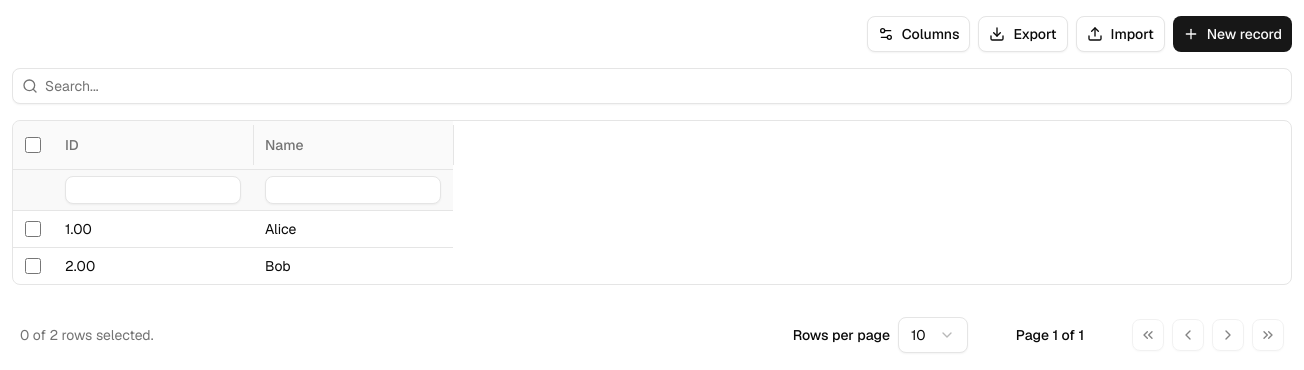
Test: TsTable › supports negation and text anchors in fulltext search
The image size is (1304, 370).
Type "!^a" into the field with placeholder "Search...".
click(652, 86); type("!^a")  # box [12,68,1292,104]
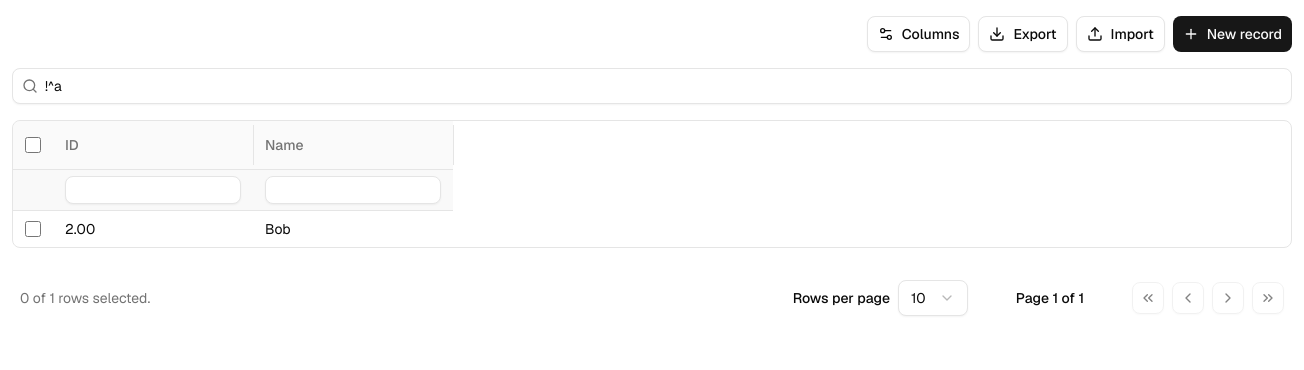
Expected: the text "Bob" is shown, [265,219,291,239]
Expected: the text "Alice" is gone
